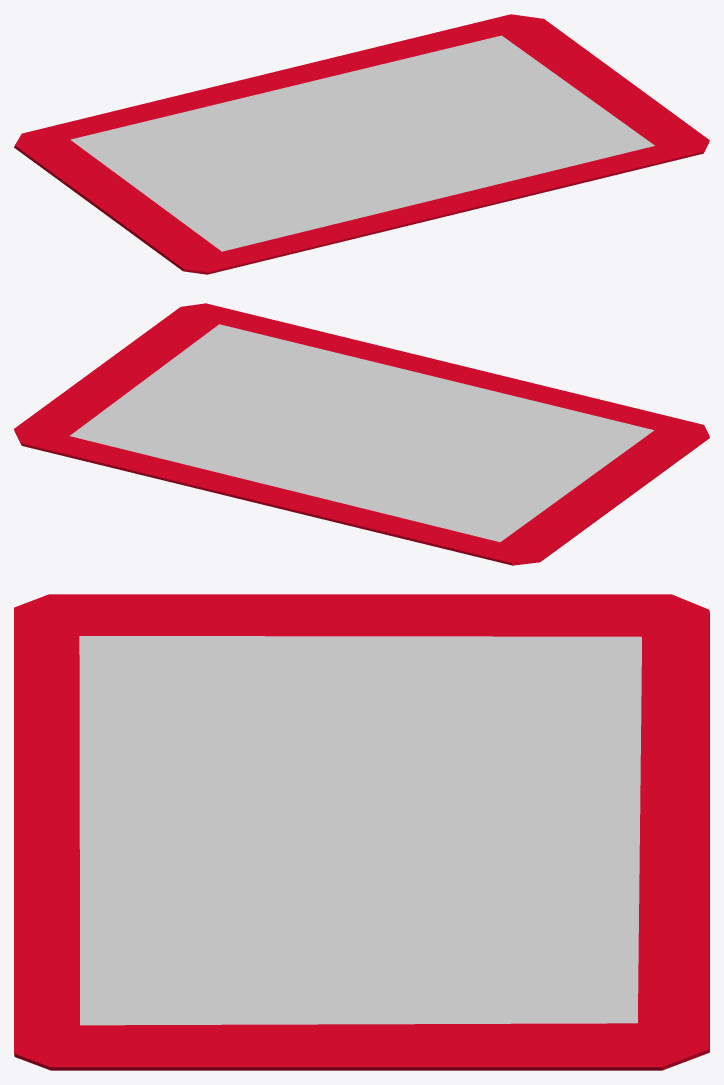
The model's file is Carta.fbx.
3 renders of one model, top to bottom at view 1: azimuth 30°, elevation 25°; view 2: azimuth 150°, elevation 25°; view 3: azimuth 270°, elevation 25°, orthographic. The views are drawn at different scales.
Parts seen in each view (by area): view 1: Carta; view 2: Carta; view 3: Carta.
Boxes of the visible parts, <box> form: Carta: <box>14,14,709,274</box>; Carta: <box>14,303,709,565</box>; Carta: <box>14,594,709,1070</box>.
Size of the model in its own units: 0.2949 by 0.0012 by 0.1832.
